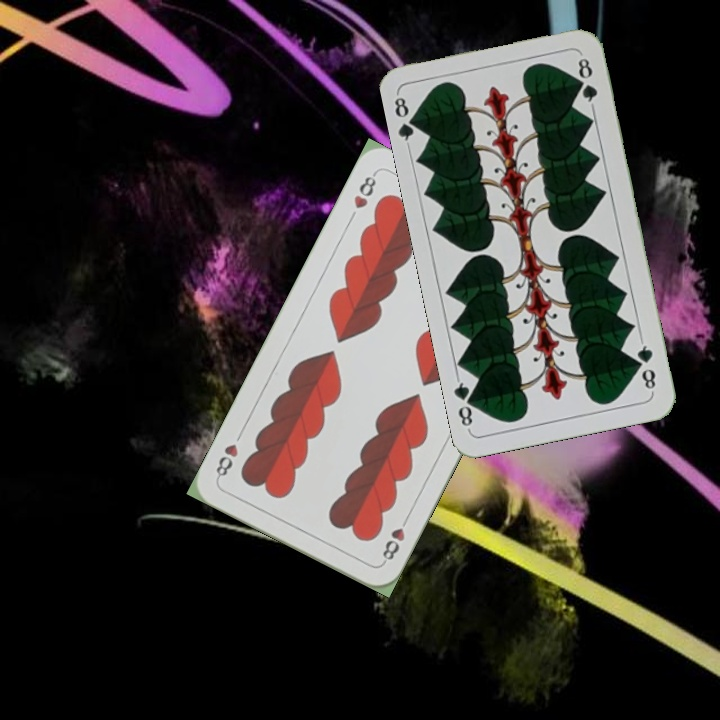G8: (390, 90, 423, 149), (632, 336, 658, 395)
H8: (378, 511, 412, 566), (349, 168, 380, 212)
